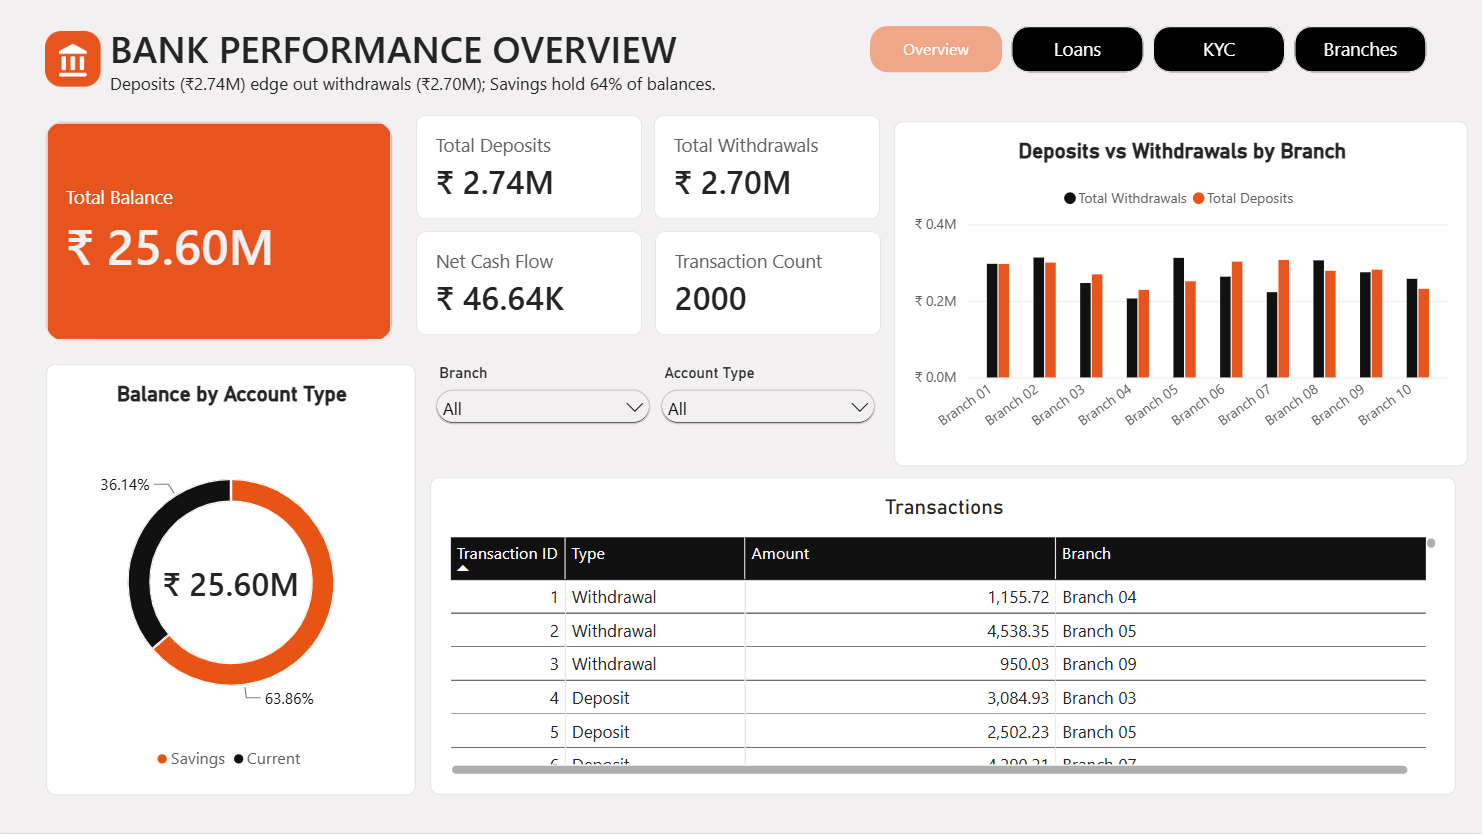

What the dashboard file says about the page in this screenshot:
{"tool":"powerbi","page":{"name":"Overview","canvas":[1280,720],"ordinal":0},"visuals":[{"type":"textbox","box":[96,61.7,600,40],"z":0},{"type":"cardVisual","fields":{"Data":["Measures (2).Total balance"]},"box":[40,105.4,300,190],"z":1000},{"type":"cardVisual","fields":{"Data":["Measures (2).Total deposit"]},"box":[360,100,195,90],"z":2000},{"type":"cardVisual","fields":{"Data":["Measures (2).Transaction count"]},"box":[565.5,200.5,195.3,90],"z":3000},{"type":"cardVisual","fields":{"Data":["Measures (2).Total withdraws"]},"box":[565,100.2,195,90],"z":4000},{"type":"cardVisual","fields":{"Data":["Measures (2).Net Cash Flow"]},"box":[360,200,195,90],"z":5000},{"type":"clusteredColumnChart","title":"Deposits vs Withdrawals by Branch","fields":{"Category":["Branches.BRANCH"],"Y":["Measures (2).Total withdrawls","Measures (2).Total deposit"]},"box":[772.1,105.4,495.4,298.2],"z":6000},{"type":"donutChart","title":"Balance by Account Type","fields":{"Category":["Accounts.account_type"],"Y":["Measures (2).Total Balance"]},"box":[40.5,314.8,319.1,371.8],"z":7000},{"type":"tableEx","title":"Transactions","fields":{"Values":["Sum(Transactions.transaction_id)","Transactions.transaction_type","Sum(Transactions.amount)","Branches.BRANCH"]},"box":[371.6,412.4,885.1,274.3],"z":8000},{"type":"pageNavigator","box":[750.9,23.3,480,40],"z":9000},{"type":"textbox","box":[96,20,600,45],"z":11000},{"type":"slicer","fields":{"Values":["Branches.Branch"]},"box":[371.6,315.1,195,55],"z":11001},{"type":"slicer","fields":{"Values":["Accounts.account_type"]},"box":[566.1,315.1,195,55],"z":11002},{"type":"image","box":[40,28,48,48],"z":11004}]}

Visuals, with their boxes in screenshot pixels (x1, y1, x2, y2), scaled from the page's 1280x720 canvas onto the 1482x834 screenshot:
textbox: (left=111, top=71, right=806, bottom=118)
cardVisual - Measures (2).Total balance: (left=46, top=122, right=394, bottom=342)
cardVisual - Measures (2).Total deposit: (left=417, top=116, right=643, bottom=220)
cardVisual - Measures (2).Transaction count: (left=655, top=232, right=881, bottom=336)
cardVisual - Measures (2).Total withdraws: (left=654, top=116, right=880, bottom=220)
cardVisual - Measures (2).Net Cash Flow: (left=417, top=232, right=643, bottom=336)
"Deposits vs Withdrawals by Branch" clusteredColumnChart: (left=894, top=122, right=1468, bottom=468)
"Balance by Account Type" donutChart: (left=47, top=365, right=416, bottom=795)
"Transactions" tableEx: (left=430, top=478, right=1455, bottom=795)
pageNavigator: (left=869, top=27, right=1425, bottom=73)
textbox: (left=111, top=23, right=806, bottom=75)
slicer - Branches.Branch: (left=430, top=365, right=656, bottom=429)
slicer - Accounts.account_type: (left=655, top=365, right=881, bottom=429)
image: (left=46, top=32, right=102, bottom=88)
